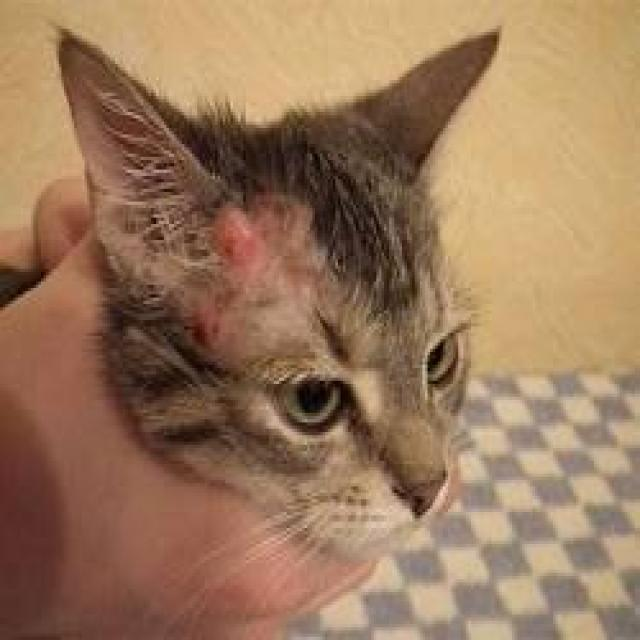cat-hairloss: (243, 278, 304, 344)
cat-ringworm: (218, 219, 284, 270), (195, 312, 233, 358)
